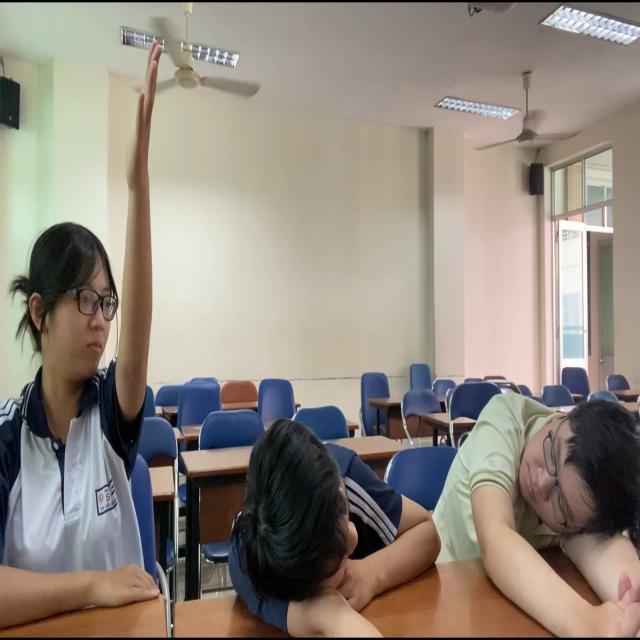raise_hand: (1, 32, 165, 640)
sleep: (448, 388, 640, 640), (232, 413, 445, 640)
